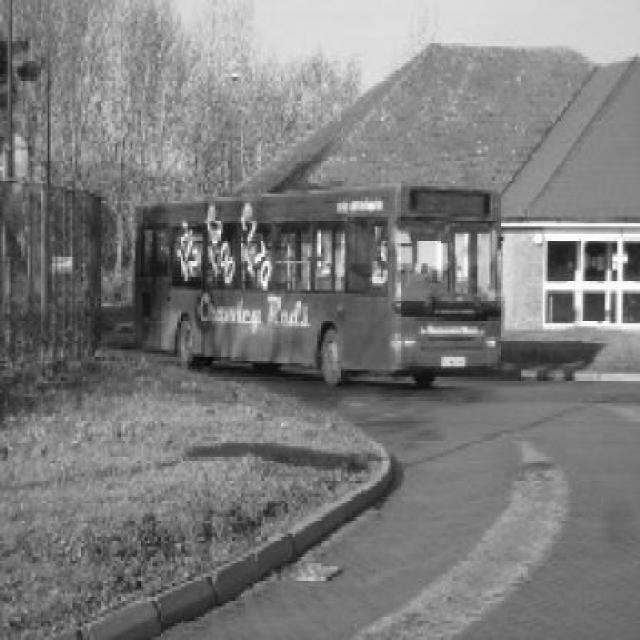Bus: (133, 183, 504, 387)
